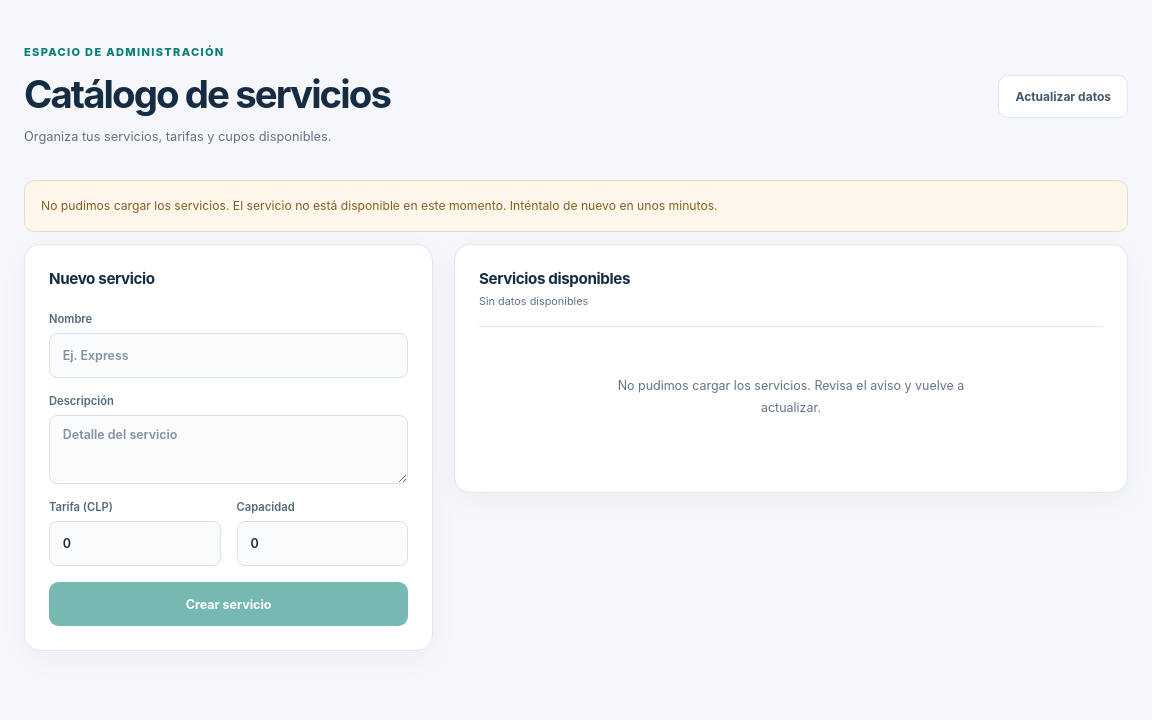
it: Estado de carga del catálogo › distingue un 503 de un catálogo vacío y permite reintentar la carga
Step 1. Click the button "Actualizar datos" → (1063, 96), box [998,75,1128,118]
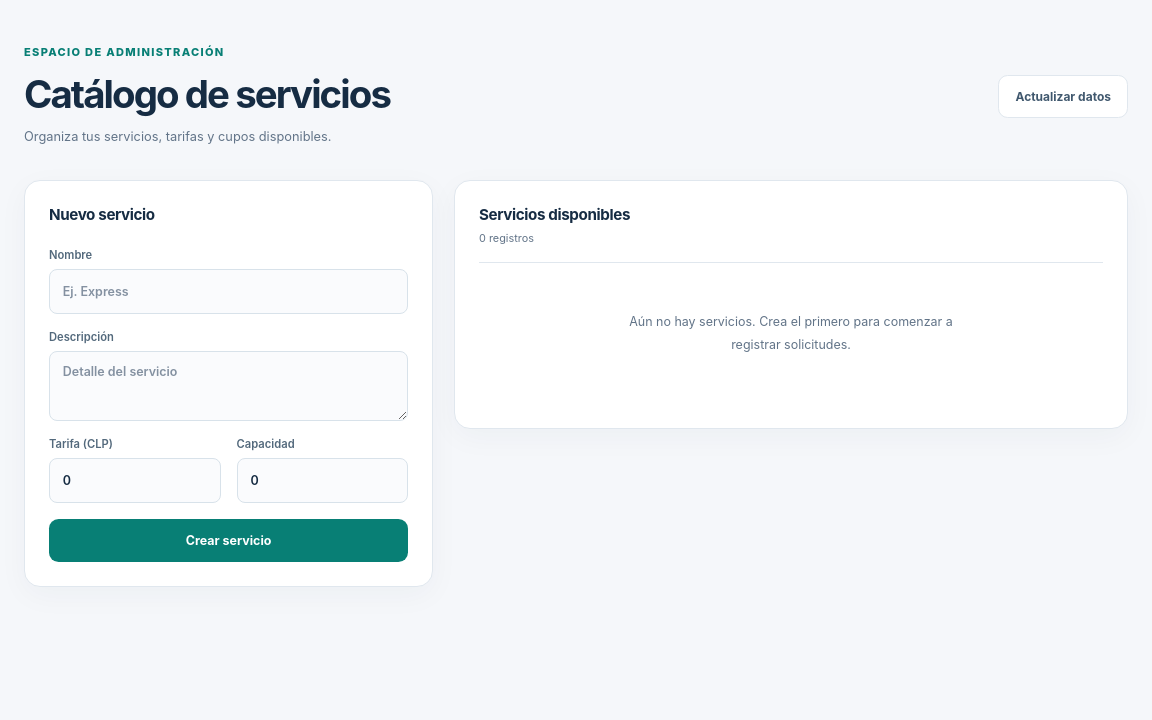
expect the message is gone: met
expect the text "0 registros" is shown: met, box [479,230,534,244]
expect the text "Crea el primero" is shown: met, box [629,314,953,352]
